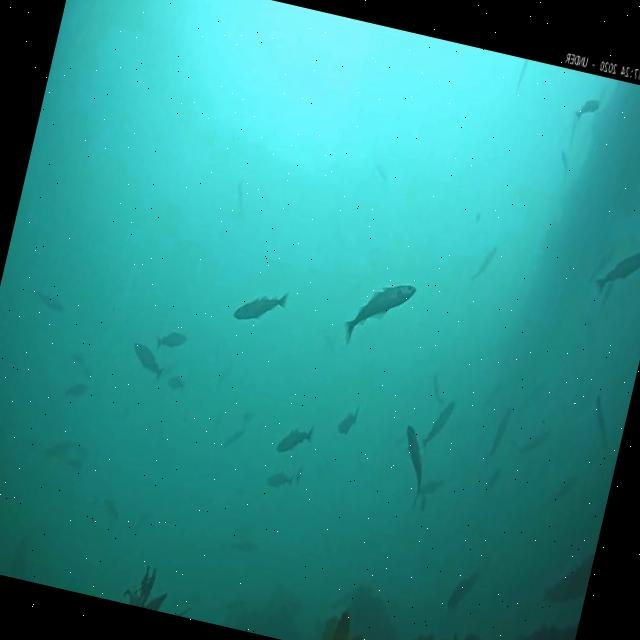fish: (340, 271, 416, 355), (593, 239, 640, 302), (234, 284, 291, 328), (396, 428, 431, 482), (422, 394, 454, 452), (584, 392, 616, 442), (275, 417, 315, 457), (125, 342, 167, 380), (445, 569, 477, 611), (488, 407, 509, 459), (471, 243, 496, 283), (520, 425, 550, 458), (334, 404, 359, 440), (154, 328, 188, 353), (34, 290, 66, 314), (416, 474, 444, 500), (554, 474, 576, 506), (46, 438, 74, 462), (428, 373, 450, 402), (574, 97, 600, 119), (267, 470, 295, 490), (222, 426, 245, 450), (514, 58, 529, 92), (166, 372, 186, 394), (556, 149, 573, 173), (66, 381, 88, 397), (100, 501, 118, 517)
